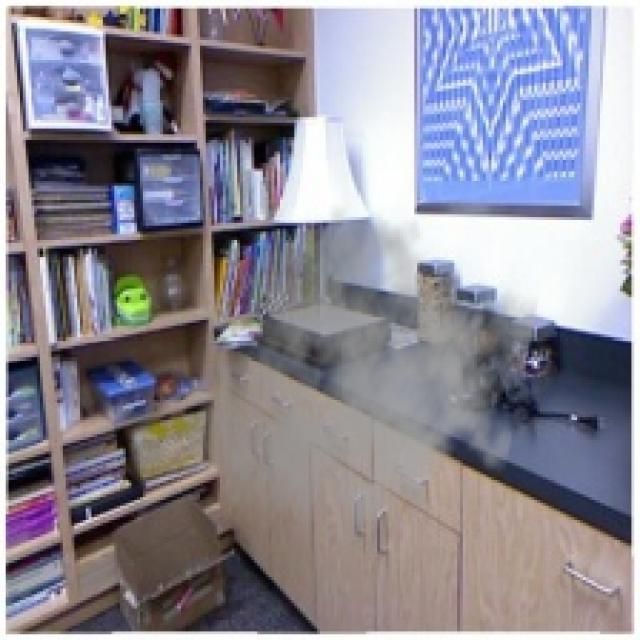Smoke: (188, 200, 540, 569)
